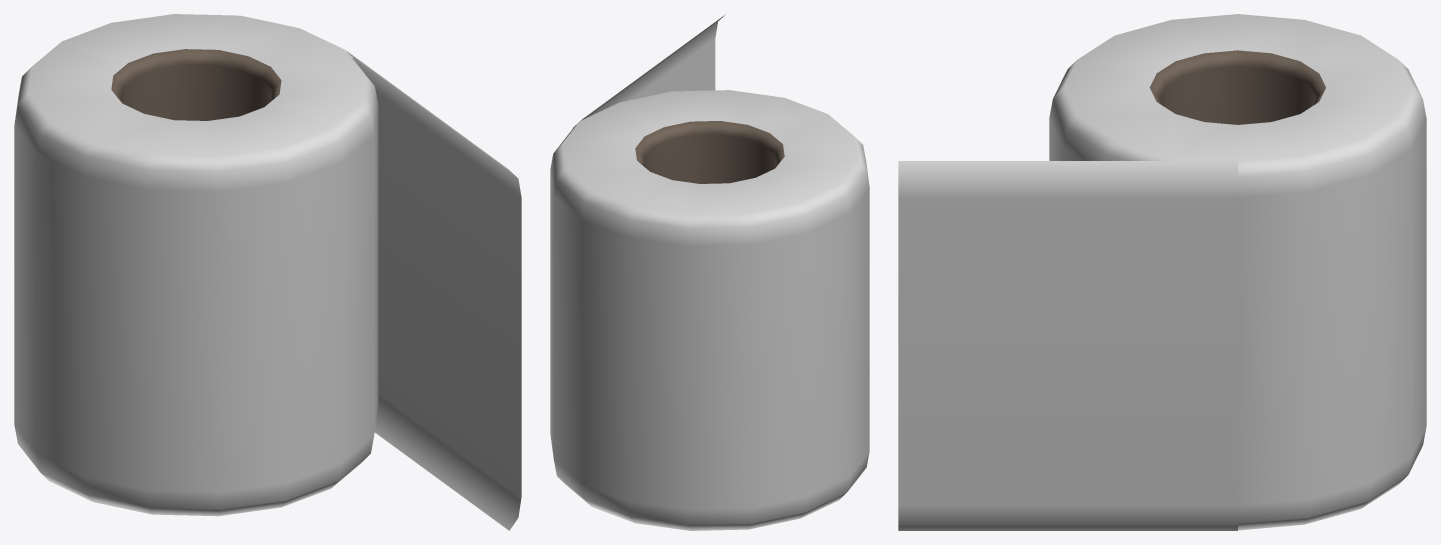
Rendered from ToiletPaperRoll.fbx.
3 views of the same model, side by side, from view 1: azimuth 30°, elevation 25°; view 2: azimuth 150°, elevation 25°; view 3: azimuth 270°, elevation 25° (orthographic). The views are drawn at different scales.
Parts seen in each view (by area): view 1: Main, Tab; view 2: Main, Tab; view 3: Tab, Main.
Part boxes in pixels (bbox=[...]): Main: bbox=[14, 14, 378, 516]; Tab: bbox=[344, 49, 521, 530]; Main: bbox=[550, 90, 869, 530]; Tab: bbox=[572, 14, 725, 128]; Tab: bbox=[898, 161, 1237, 530]; Main: bbox=[1049, 14, 1426, 530].
Bounding box in the file's own units: 1.08 × 1.17 × 1.51.
